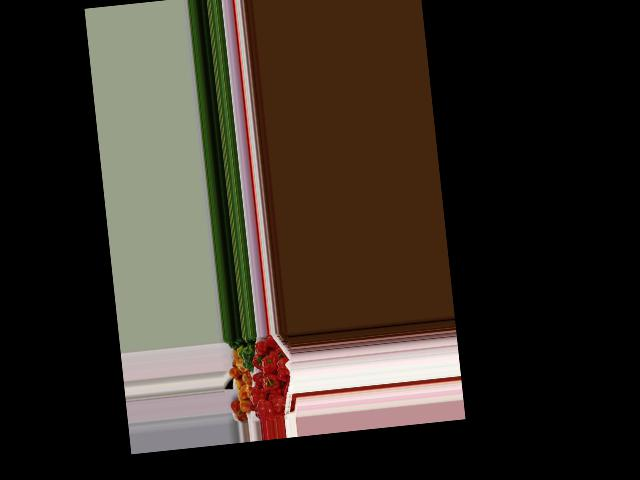bell_pepper: (275, 356, 292, 383)
